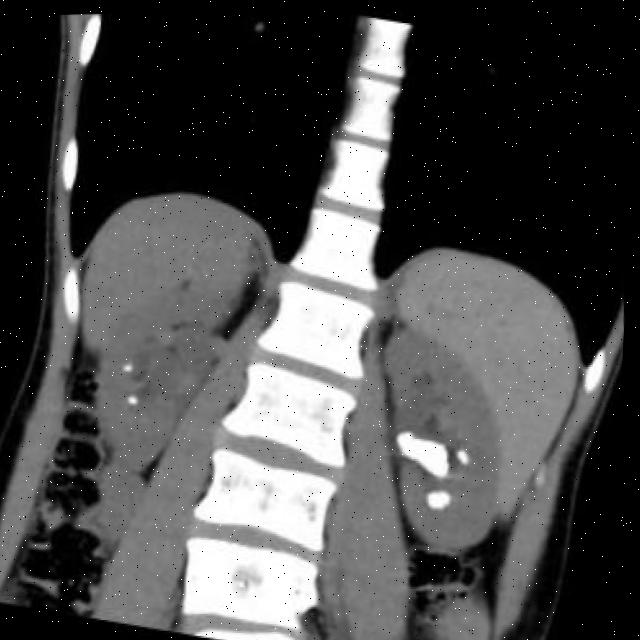Tas_Var: (390, 411, 463, 479), (424, 482, 451, 511), (125, 388, 145, 411), (440, 484, 457, 505), (121, 358, 141, 375), (458, 443, 473, 456), (463, 452, 476, 463)
